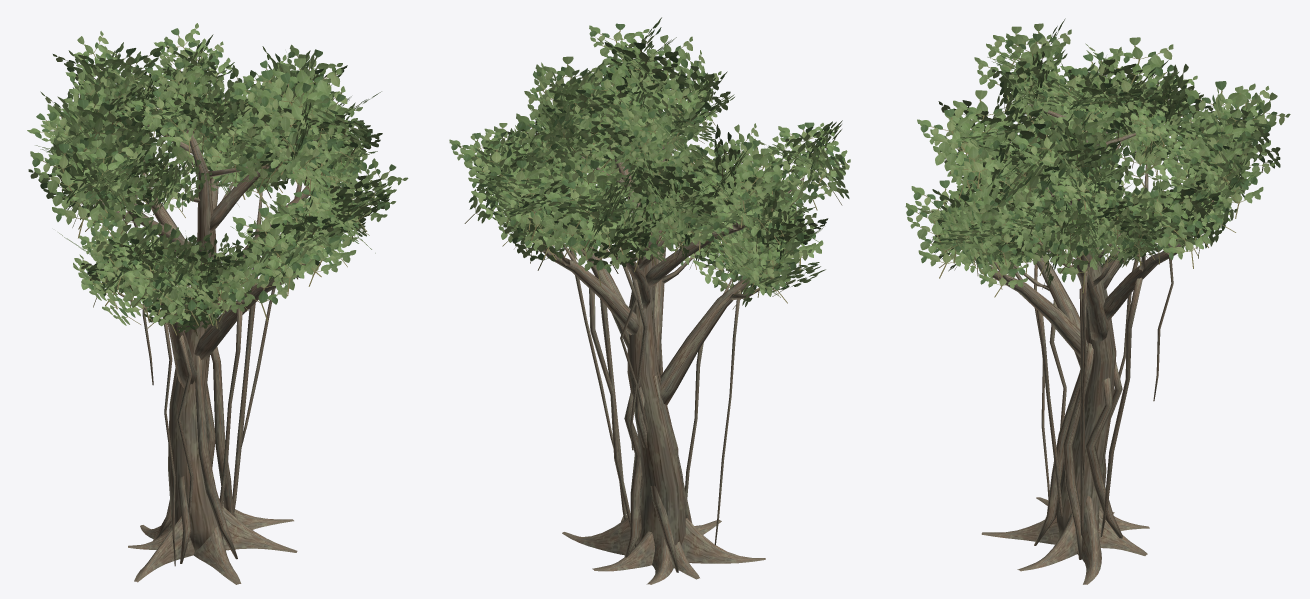
File: rainforest-tree-1.glb
3 views of the same model, side by side, from view 1: azimuth 30°, elevation 25°; view 2: azimuth 150°, elevation 25°; view 3: azimuth 270°, elevation 25° (orthographic).
Parts seen in each view (by area): view 1: Rainforest foliage, Woody skeleton; view 2: Rainforest foliage, Woody skeleton; view 3: Rainforest foliage, Woody skeleton.
Part boxes in pixels (box(x1,y1,x2,y2)): Rainforest foliage: box(27, 23, 408, 336); Woody skeleton: box(99, 122, 319, 584); Rainforest foliage: box(449, 17, 850, 309); Woody skeleton: box(534, 135, 803, 584); Rainforest foliage: box(905, 18, 1290, 297); Woody skeleton: box(974, 103, 1214, 584).
Size of the model in its own units: 20.73 by 26 by 19.51.
2 materials, 2 textured.
